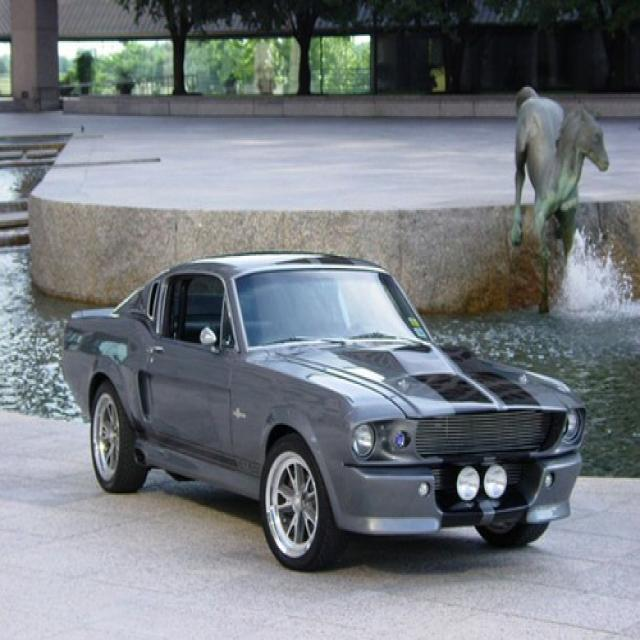Car: (61, 251, 591, 569)
